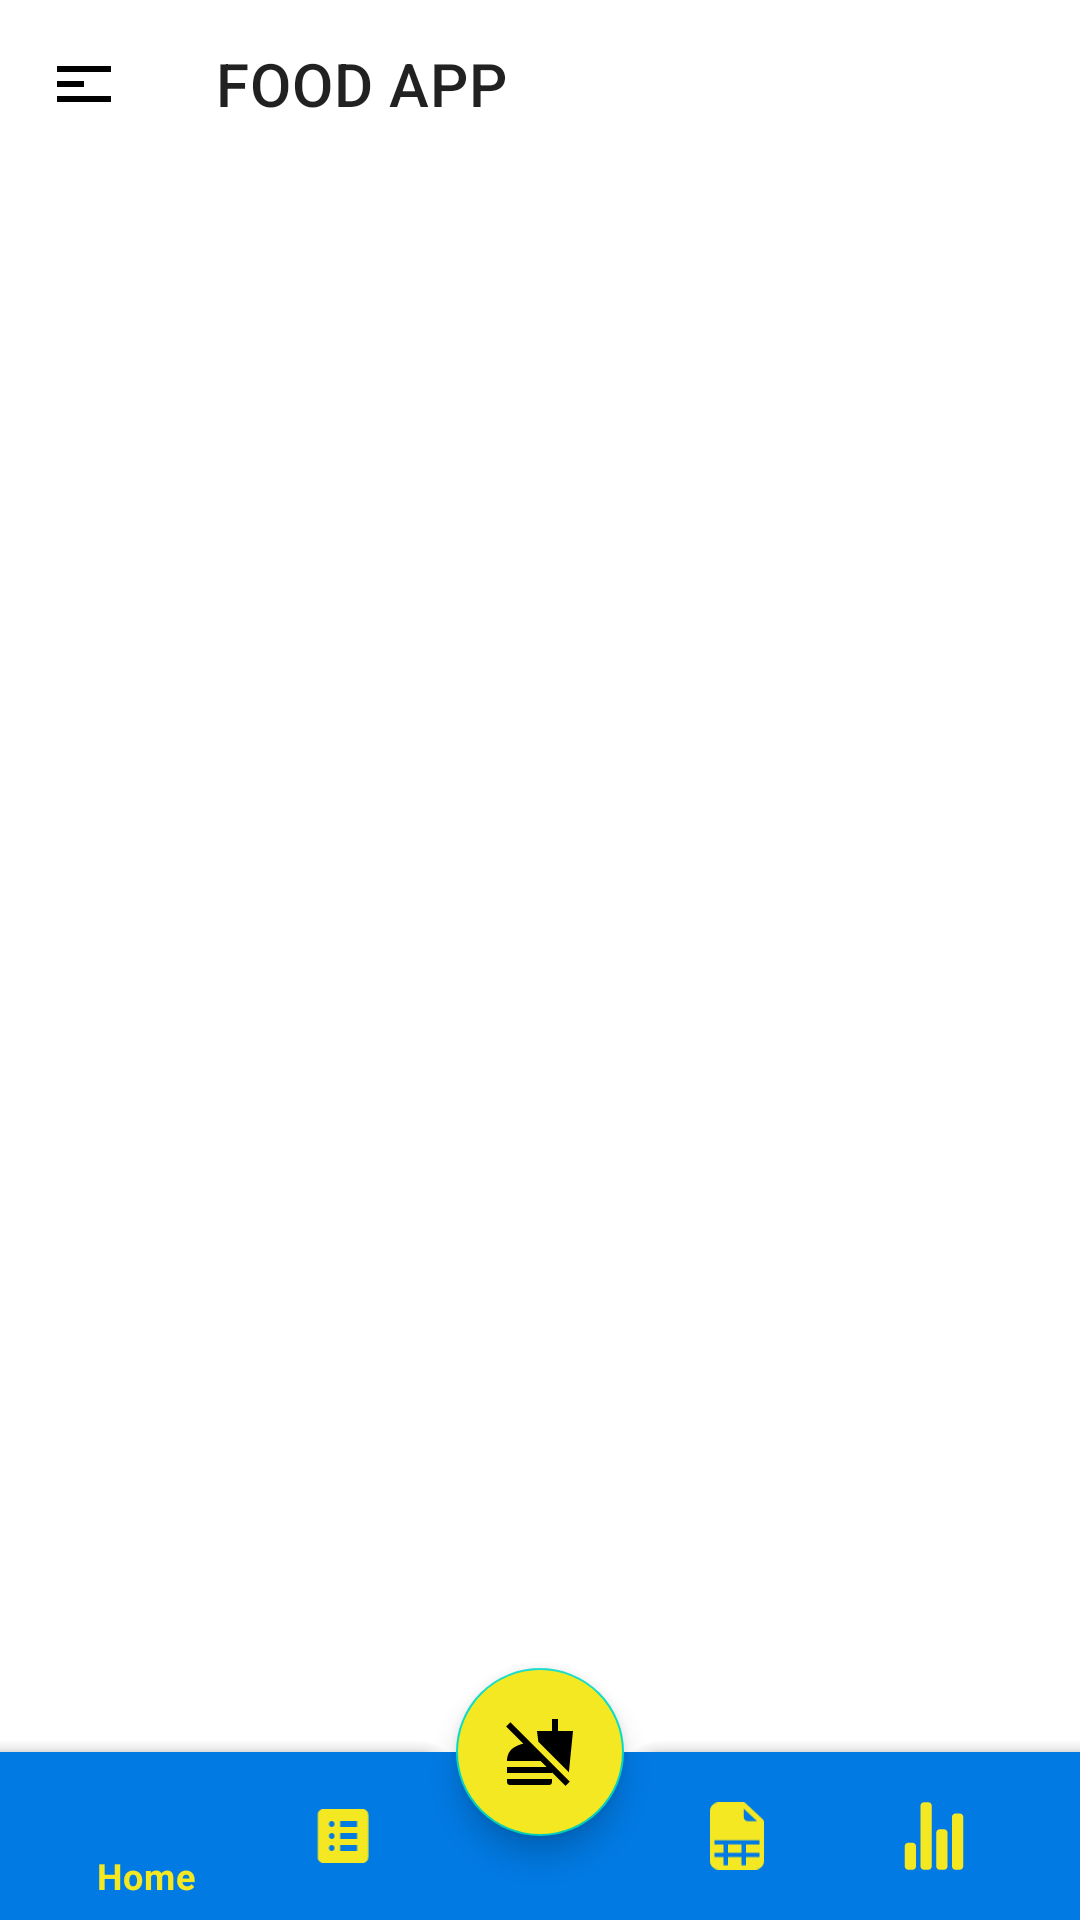

Named icons in this screenshot (1080 x 1920) and their centers, [x,y]:
symbols no food: [540,1752]
